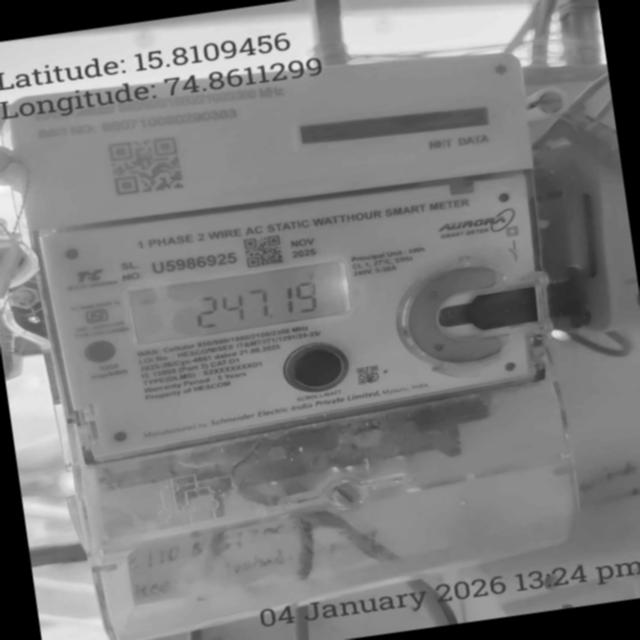meter: (4, 29, 563, 452)
